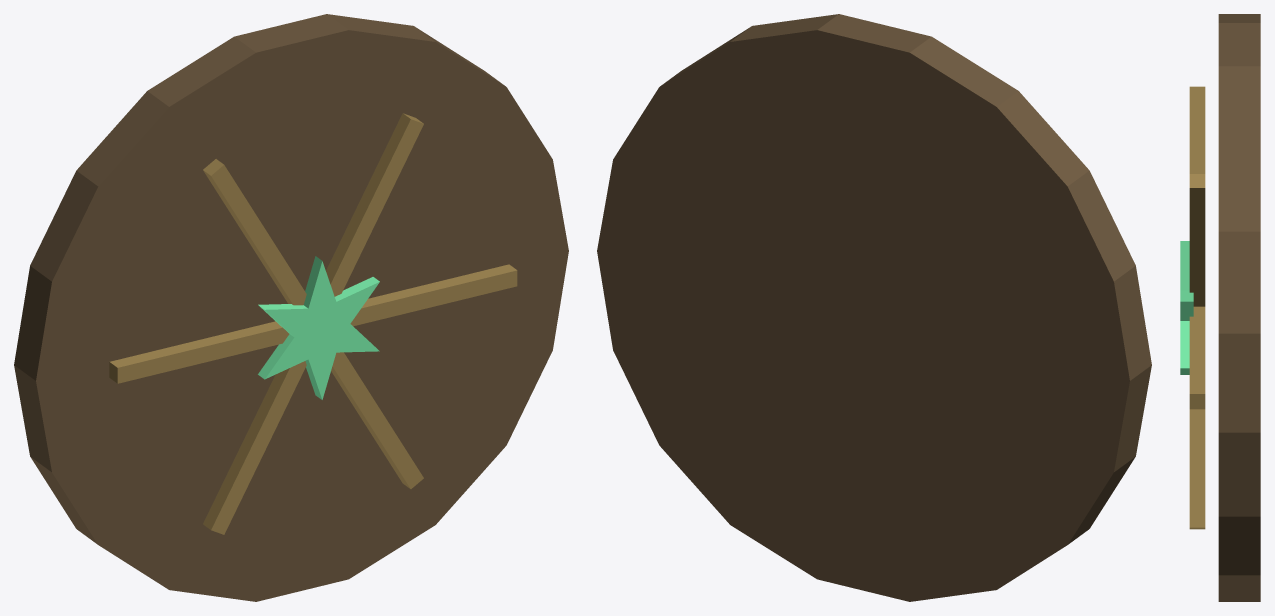
Rendered from star_lattice.obj.
3 views of the same model, side by side, from view 1: azimuth 30°, elevation 25°; view 2: azimuth 150°, elevation 25°; view 3: azimuth 270°, elevation 25° (orthographic). The views are drawn at different scales.
Visible parts, largest first — view 1: mirror_back_plate, mirror_back_plate_edge, back_star, lattice_0_star_line, lattice_60_star_line, lattice_120_star_line, lattice_60_star_line_edge, lattice_0_star_line_edge, back_star_edge, lattice_120_star_line_edge; view 2: mirror_back_plate, mirror_back_plate_edge; view 3: mirror_back_plate_edge, lattice_120_star_line_edge, lattice_60_star_line_edge, lattice_0_star_line_edge, back_star_edge.
Boxes of the visible parts, <box> form: mirror_back_plate: <box>36,30,568,601</box>; mirror_back_plate_edge: <box>14,14,504,544</box>; back_star: <box>265,261,379,399</box>; lattice_0_star_line: <box>117,270,517,383</box>; lattice_60_star_line: <box>211,119,423,534</box>; lattice_120_star_line: <box>211,165,423,488</box>; lattice_60_star_line_edge: <box>203,113,423,529</box>; lattice_0_star_line_edge: <box>109,264,516,383</box>; back_star_edge: <box>258,256,379,399</box>; lattice_120_star_line_edge: <box>203,159,410,488</box>; mirror_back_plate: <box>597,30,1129,601</box>; mirror_back_plate_edge: <box>661,14,1151,544</box>; mirror_back_plate_edge: <box>1218,14,1260,601</box>; lattice_120_star_line_edge: <box>1189,86,1205,529</box>; lattice_60_star_line_edge: <box>1189,174,1205,306</box>; lattice_0_star_line_edge: <box>1189,306,1205,409</box>; back_star_edge: <box>1180,241,1193,374</box>.
Size of the model in its own units: 1.12 by 1.1 by 0.1526.
